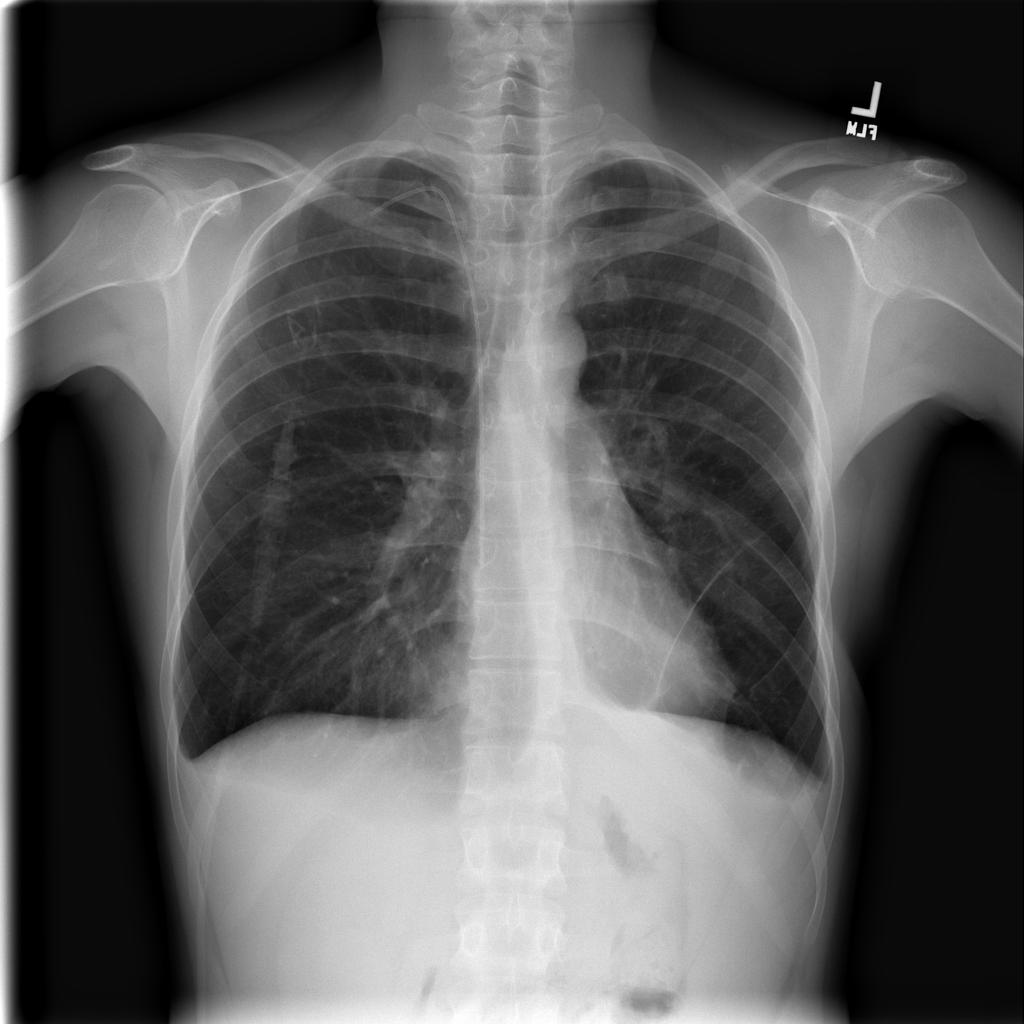nodule: (594, 264, 642, 316), (660, 270, 711, 318)
